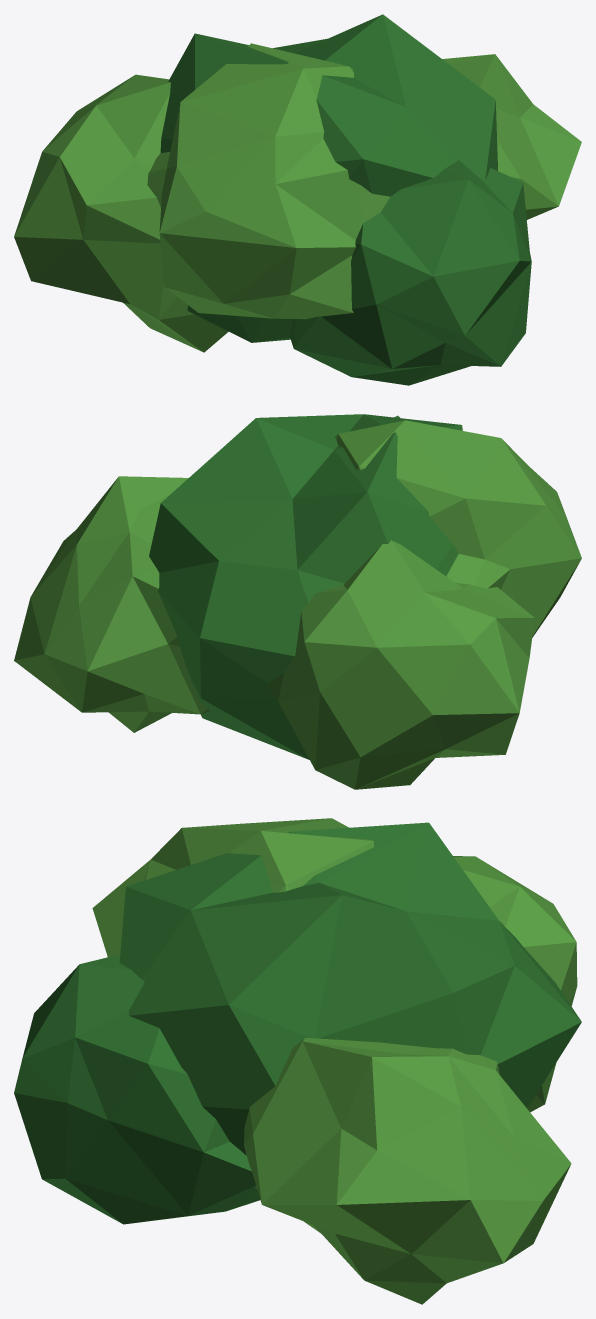
File: bush.glb
3 renders of one model, top to bottom at view 1: azimuth 30°, elevation 25°; view 2: azimuth 150°, elevation 25°; view 3: azimuth 270°, elevation 25°, orthographic. The views are drawn at different scales.
Visible parts, largest first — view 1: bush; view 2: bush; view 3: bush.
Part boxes in pixels (x1=…): bush: x1=14, y1=14, x2=581, y2=385; bush: x1=14, y1=414, x2=581, y2=789; bush: x1=14, y1=818, x2=581, y2=1304.
Bounding box in the file's own units: 1.2 × 0.7 × 1.
